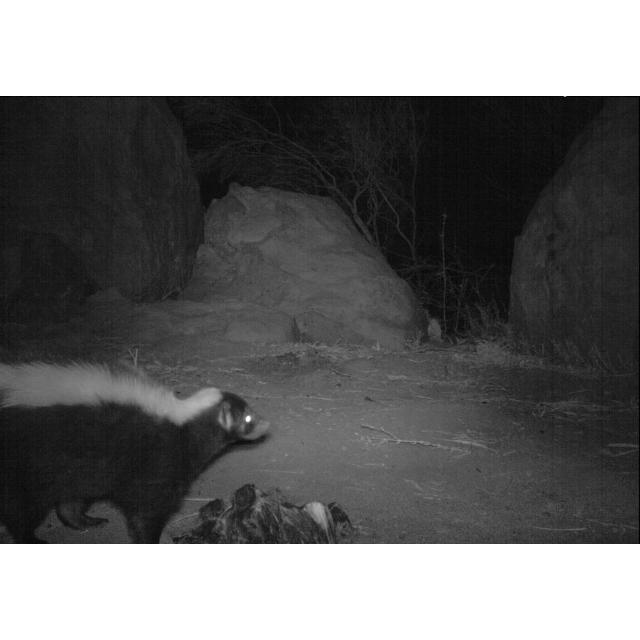animals: (0, 355, 274, 545)
